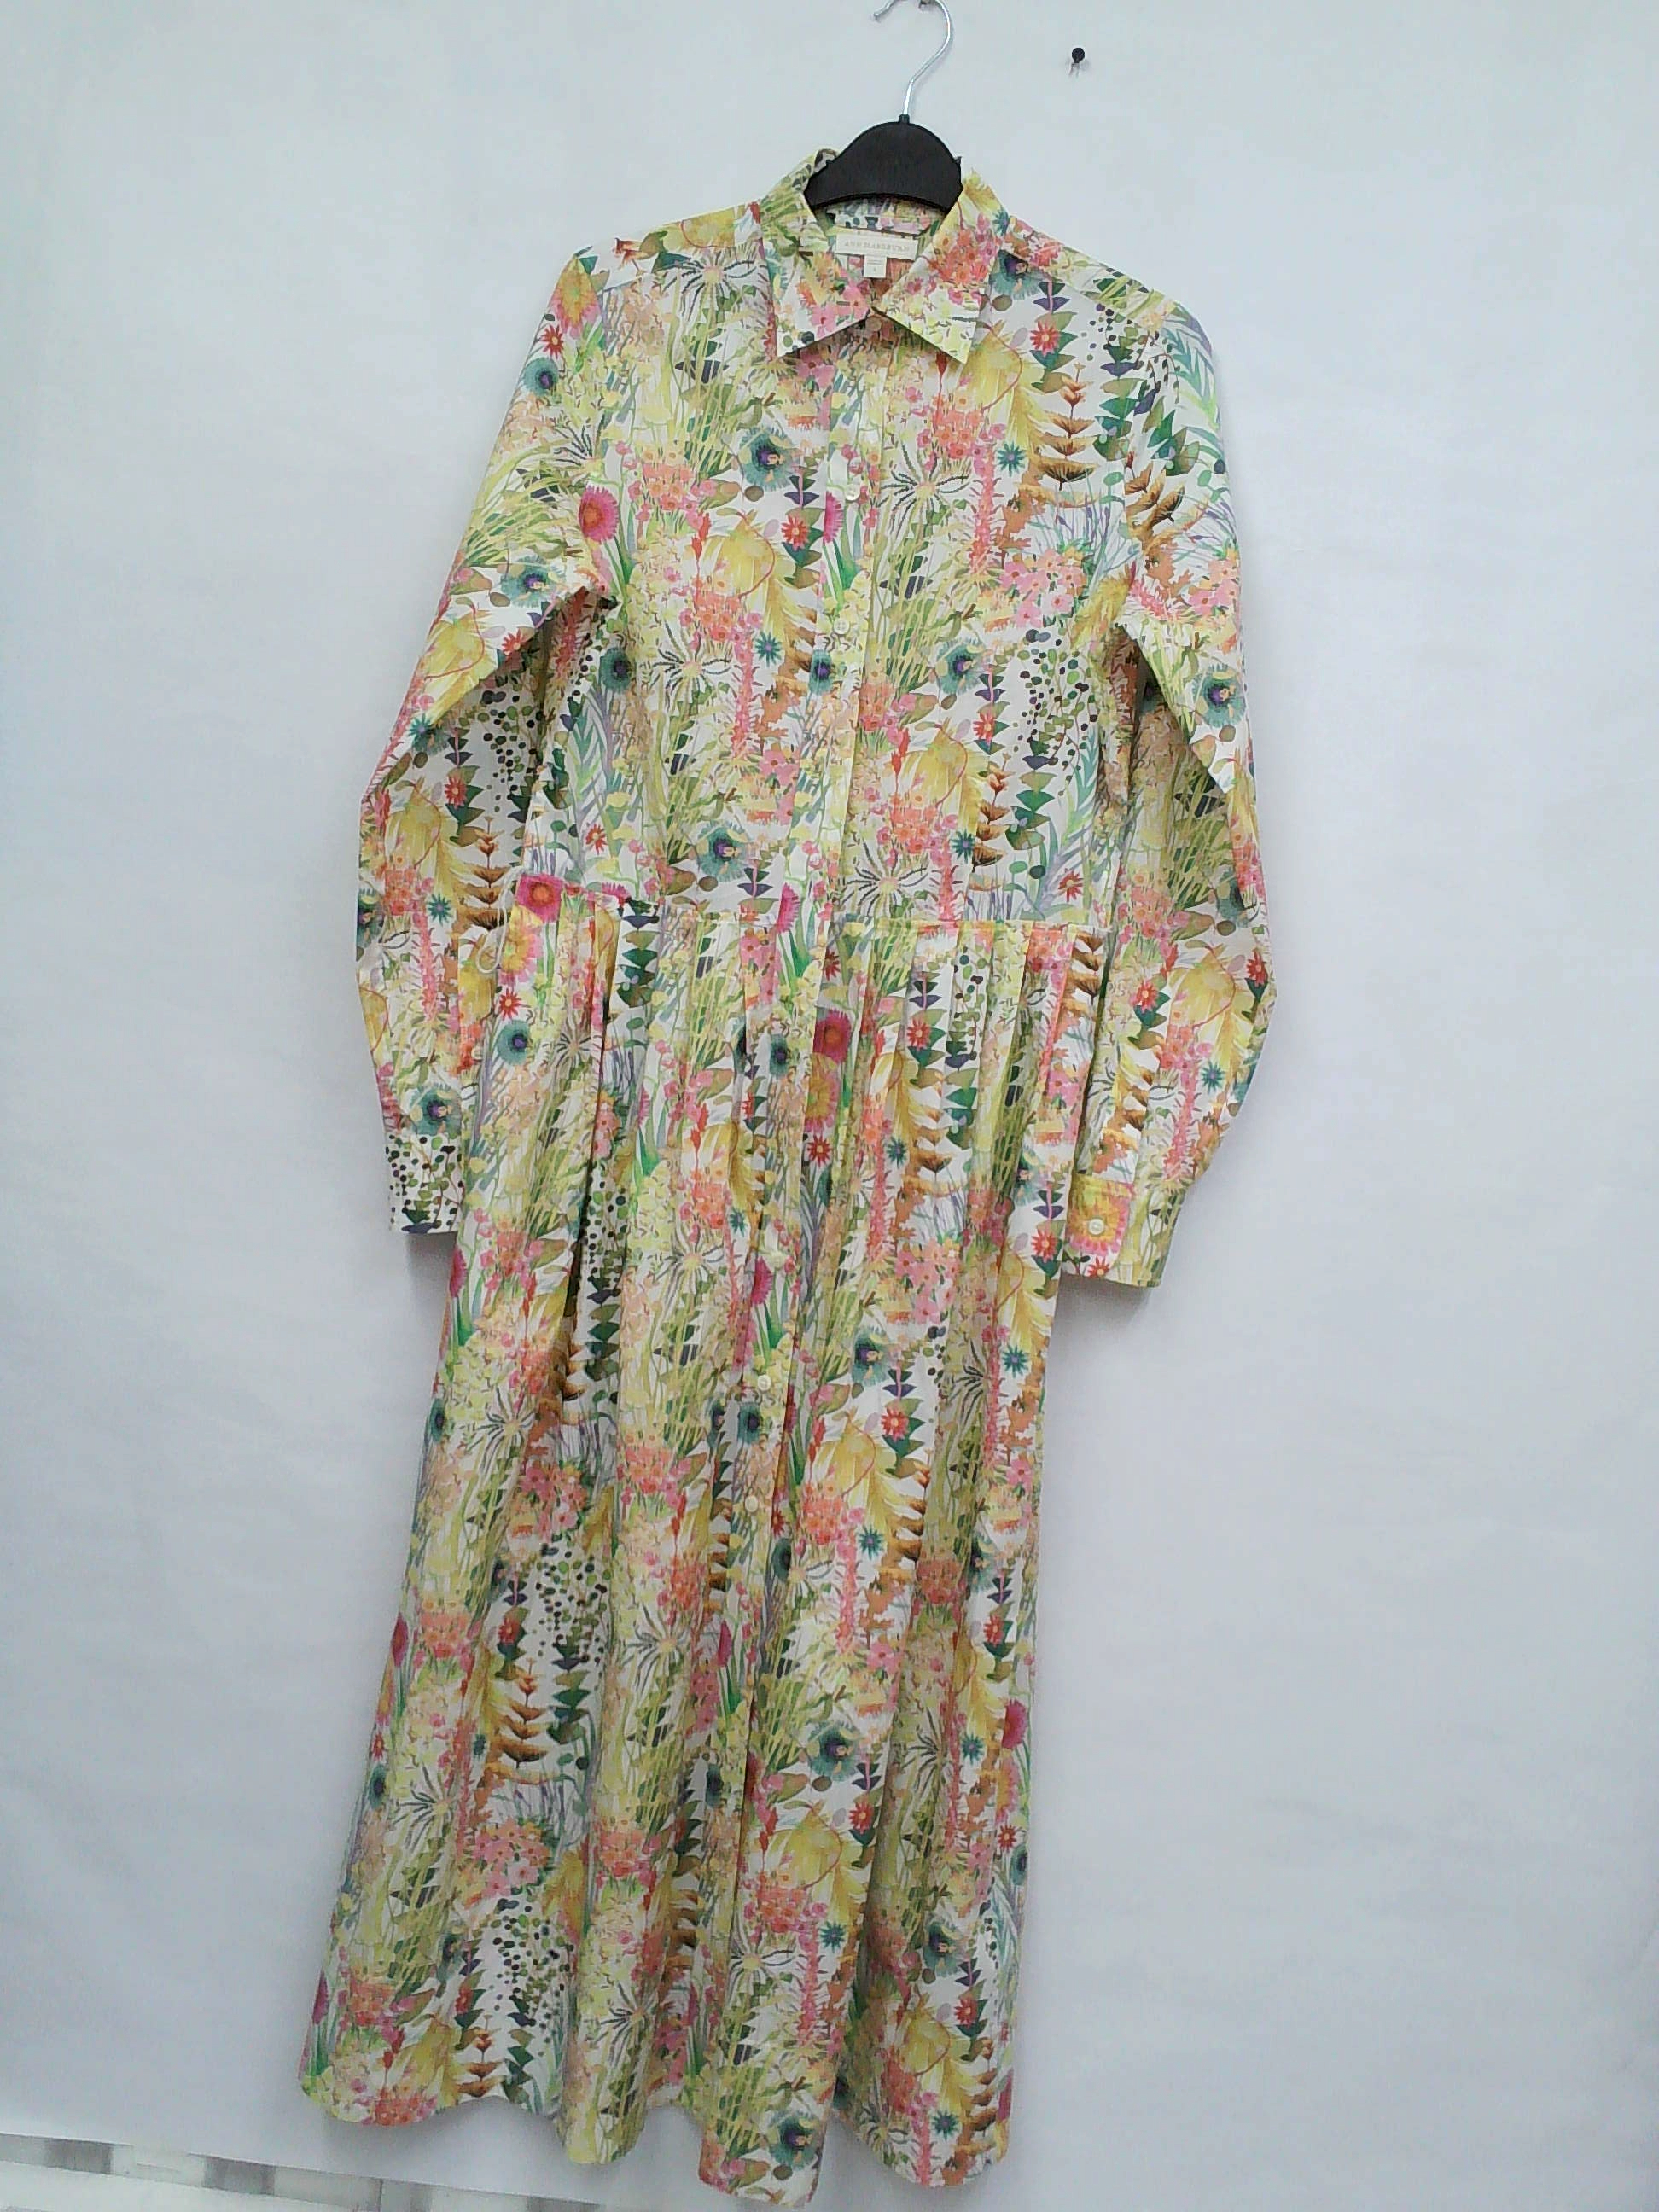structural: (420, 819, 608, 972)
